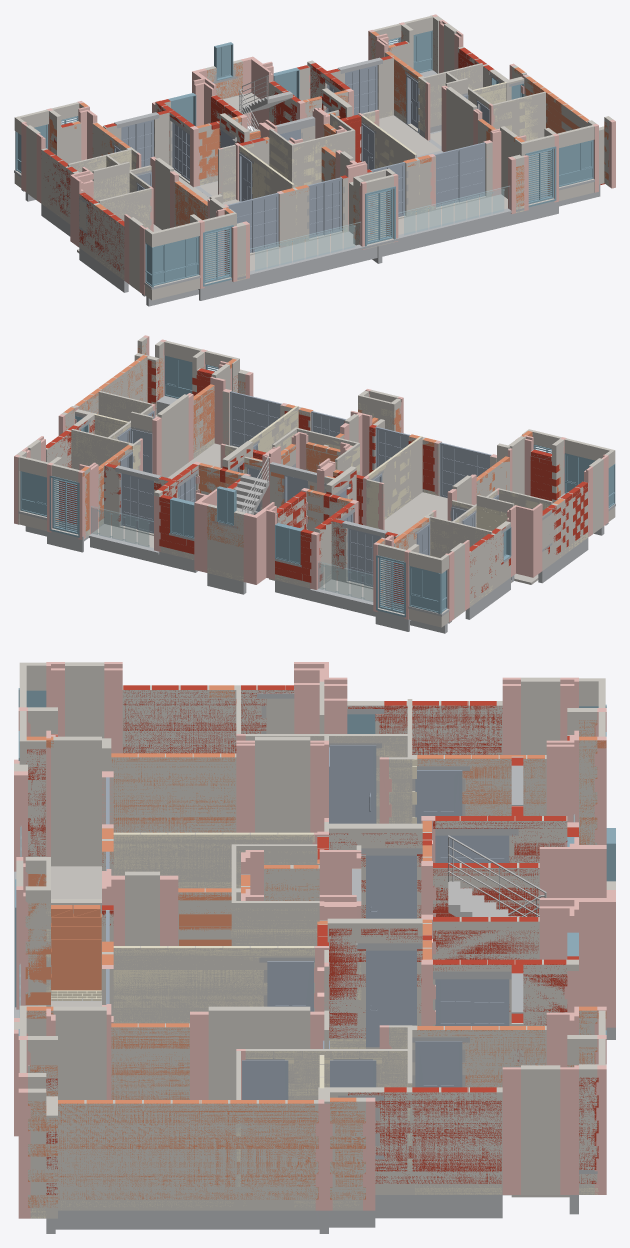
3 renders of one model, top to bottom at view 1: azimuth 30°, elevation 25°; view 2: azimuth 150°, elevation 25°; view 3: azimuth 270°, elevation 25°, orthographic. The views are drawn at different scales.
Parts seen in each view (by area): view 1: C_Q, C_Z.001, C_M, C_W, C_L, C_QC__T200, C_QC__T100, C_B, C_QC__T250, C_G, C_QT; view 2: C_Q, C_Z.001, C_W, C_M, C_QC__T250, C_L, C_QC__T200, C_QC__T100, C_B, C_G, C_QT; view 3: C_Q, C_Z.001, C_QC__T200, C_QC__T250, C_M, C_QC__T100, C_L, C_QT, C_W, C_B.
Part boxes in pixels (x1,y1,x2,y2): C_Q: [14, 15, 612, 300]; C_Z.001: [21, 14, 615, 295]; C_M: [114, 65, 489, 252]; C_W: [15, 30, 593, 287]; C_L: [14, 57, 600, 306]; C_QC__T200: [49, 31, 609, 241]; C_QC__T100: [42, 67, 608, 280]; C_B: [26, 93, 507, 293]; C_QC__T250: [43, 41, 604, 271]; C_G: [250, 186, 509, 271]; C_QT: [87, 70, 479, 228]; C_Q: [17, 337, 615, 627]; C_Z.001: [14, 335, 608, 622]; C_W: [20, 355, 615, 617]; C_M: [118, 391, 498, 586]; C_QC__T250: [26, 360, 587, 603]; C_L: [18, 396, 615, 633]; C_QC__T200: [55, 344, 564, 596]; C_QC__T100: [17, 394, 587, 605]; C_B: [93, 415, 602, 620]; C_G: [91, 506, 372, 601]; C_QT: [119, 420, 503, 569]; C_Q: [14, 662, 615, 1218]; C_Z.001: [14, 662, 615, 1218]; C_QC__T200: [25, 685, 606, 1207]; C_QC__T250: [26, 685, 598, 1194]; C_M: [106, 745, 509, 1099]; C_QC__T100: [30, 736, 598, 1218]; C_L: [14, 693, 615, 1233]; C_QT: [261, 705, 546, 1145]; C_W: [15, 688, 615, 1035]; C_B: [51, 866, 569, 1197].
Bounding box in the file's own units: 22 × 4.75 × 13.
